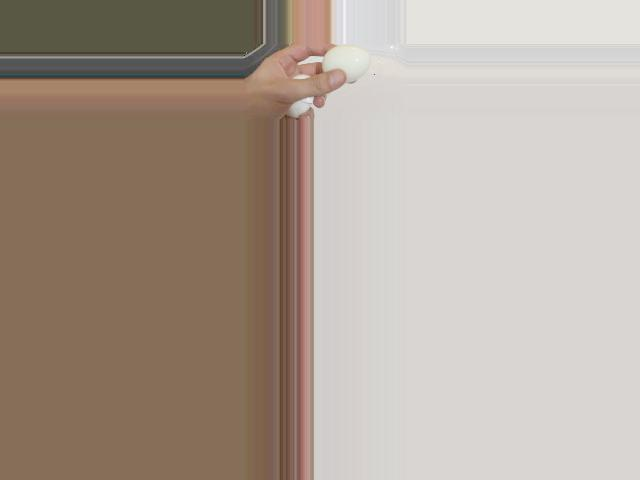egg: (322, 44, 369, 83)
